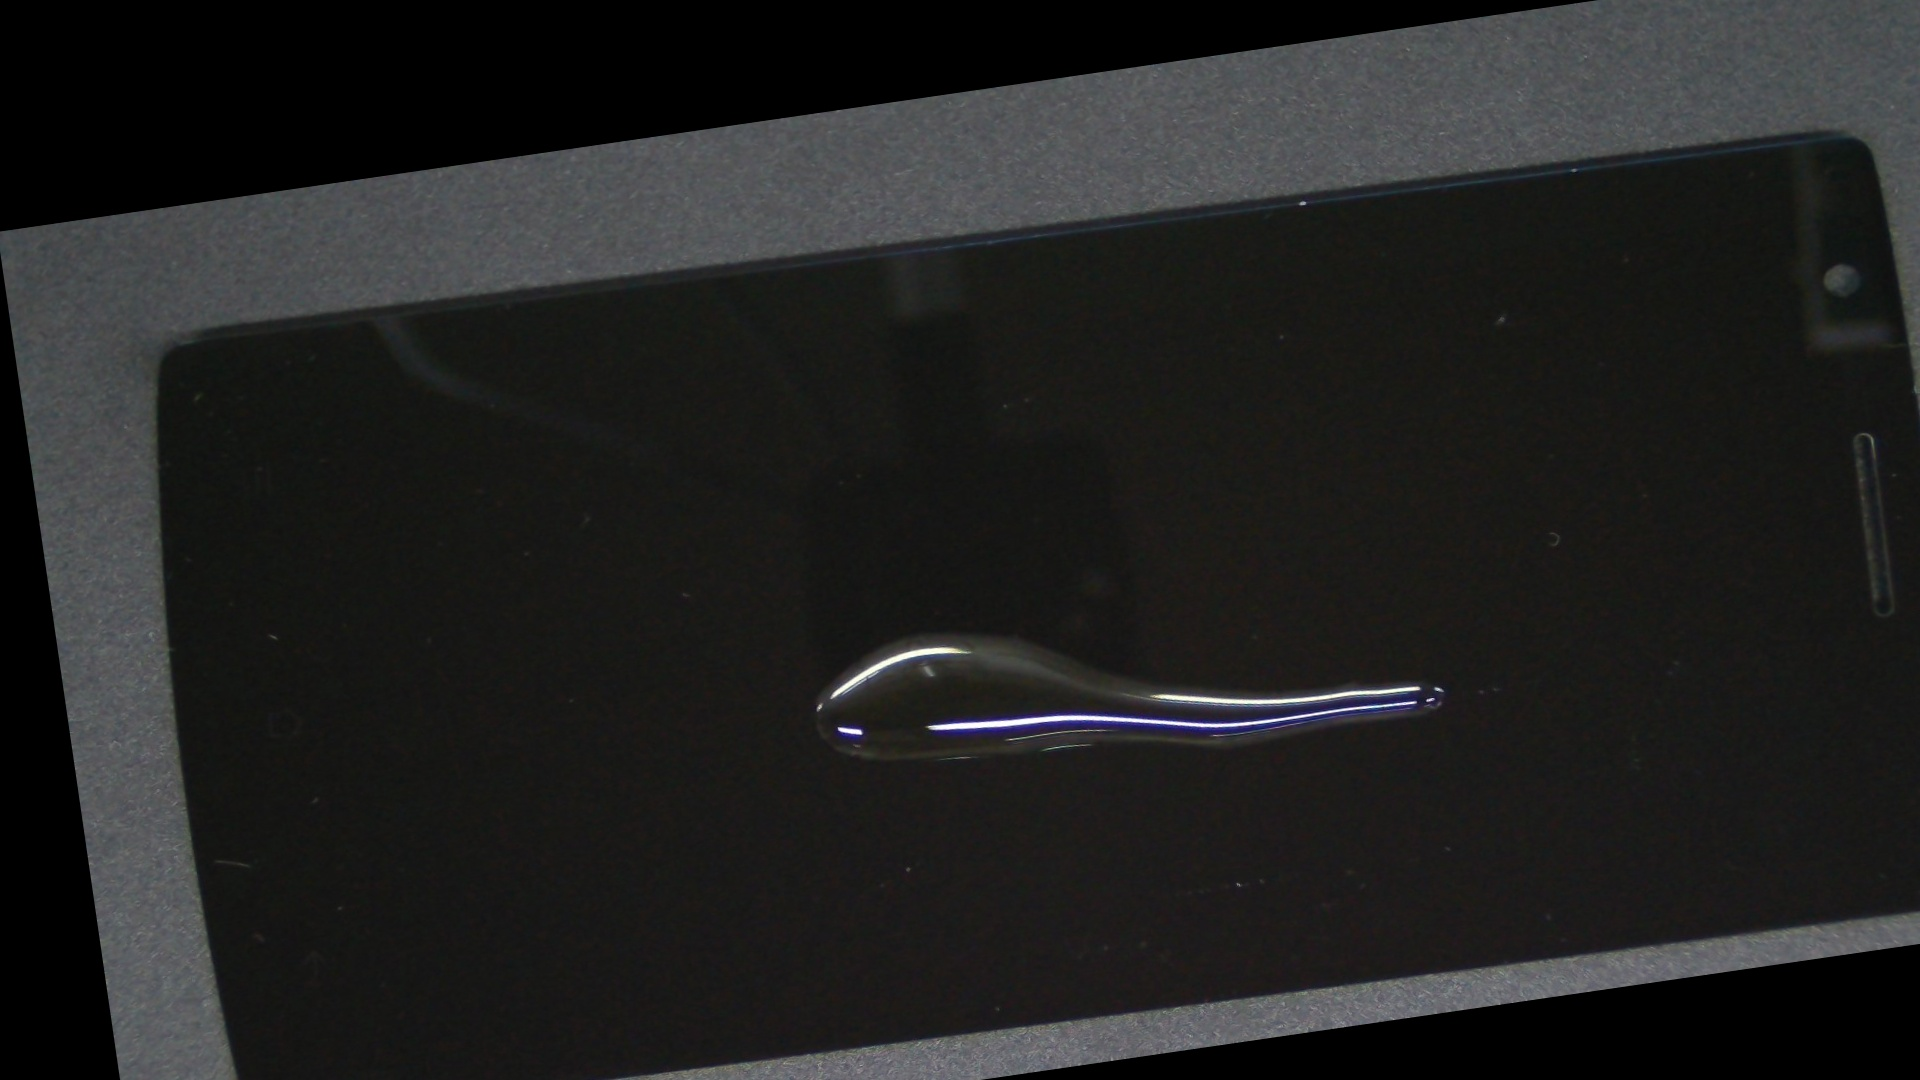oil: (454, 313, 1366, 959)
